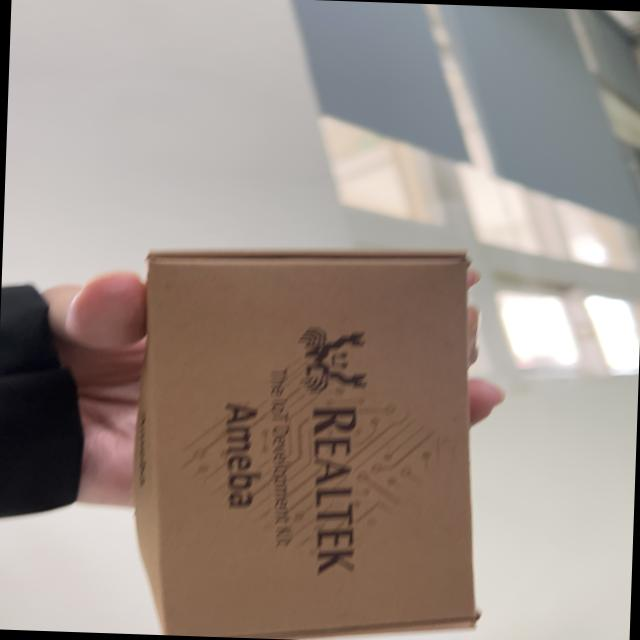box: (79, 236, 541, 640)
